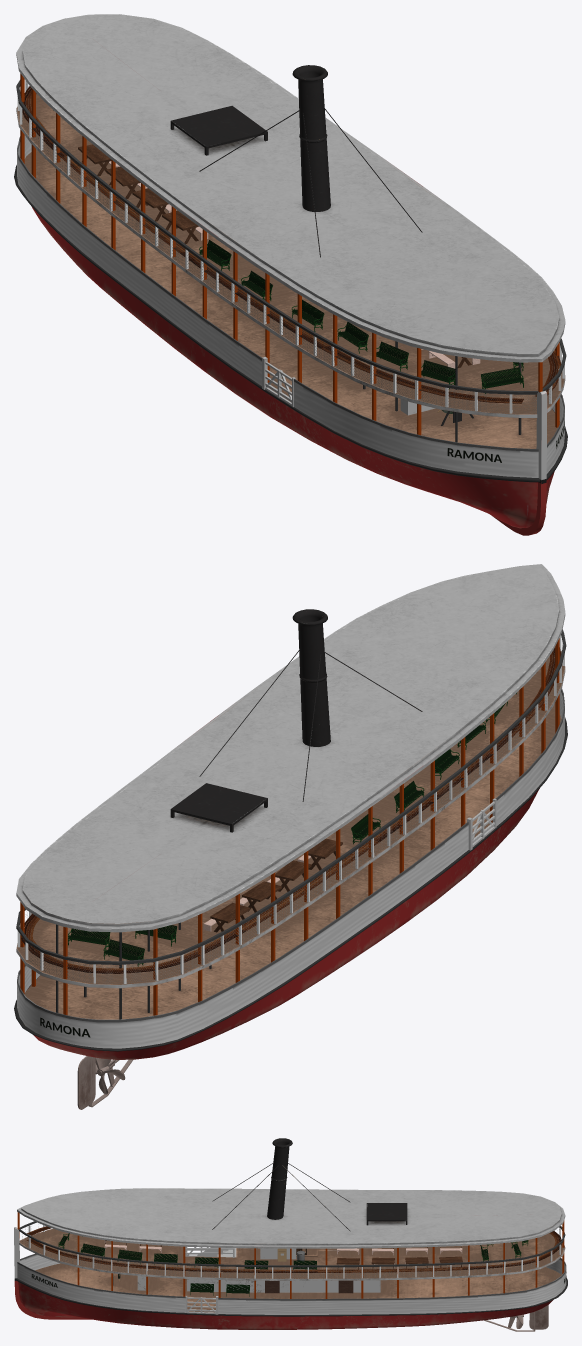
Rendered from boat.gltf.
3 renders of one model, top to bottom at view 1: azimuth 30°, elevation 25°; view 2: azimuth 150°, elevation 25°; view 3: azimuth 270°, elevation 25°, orthographic. The views are drawn at different scales.
Visible parts, largest first — view 1: Plane.003, Plane, Cube.039, Cube.002, Cube, Cube.003, Cylinder.002, Cube.008, Plane.002, Cube.034, Plane.001, Cube.004 (+7 smaller); view 2: Plane.003, Plane, Cube.039, Cube.002, Cube, Cube.003, Cube.008, Cylinder.002, Plane.002, Plane.001, Cube.004, Cube.019 (+6 smaller); view 3: Plane.003, Plane, Cube.002, Cube, Cube.039, Cube.008, Cube.006, Plane.002, Plane.001, Cube.003, Cylinder.002, Cube.036 (+10 smaller).
Part boxes in pixels (<box>): Plane.003: <box>16,14,565,362</box>; Plane: <box>16,93,565,417</box>; Cube.039: <box>24,149,560,448</box>; Cube.002: <box>17,135,564,477</box>; Cube: <box>32,207,554,528</box>; Cube.003: <box>20,73,559,435</box>; Cylinder.002: <box>292,65,330,211</box>; Cube.008: <box>22,86,560,403</box>; Plane.002: <box>22,81,555,412</box>; Cube.034: <box>199,240,523,389</box>; Plane.001: <box>16,80,566,394</box>; Cube.004: <box>170,105,267,155</box>; Plane.003: <box>16,564,565,932</box>; Plane: <box>16,647,565,988</box>; Cube.039: <box>24,703,561,1019</box>; Cube.002: <box>17,691,564,1048</box>; Cube: <box>33,788,539,1059</box>; Cube.003: <box>20,638,559,1015</box>; Cube.008: <box>21,647,560,973</box>; Cylinder.002: <box>292,609,330,746</box>; Plane.002: <box>21,675,558,983</box>; Plane.001: <box>16,629,566,964</box>; Cube.004: <box>170,783,267,832</box>; Cube.019: <box>17,635,564,983</box>; Plane.003: <box>17,1188,565,1248</box>; Plane: <box>19,1228,565,1280</box>; Cube.002: <box>17,1247,566,1314</box>; Cube: <box>18,1282,552,1329</box>; Cube.039: <box>35,1263,561,1312</box>; Cube.008: <box>26,1226,561,1272</box>; Cube.006: <box>187,1247,380,1292</box>; Plane.002: <box>22,1229,553,1278</box>; Plane.001: <box>18,1221,565,1267</box>; Cube.003: <box>17,1212,564,1298</box>; Cylinder.002: <box>267,1138,292,1219</box>; Cube.036: <box>15,1277,567,1316</box>.
Size of the model in its own units: 232 by 350 by 928.
Materials: 17 (13 with a texture image).
